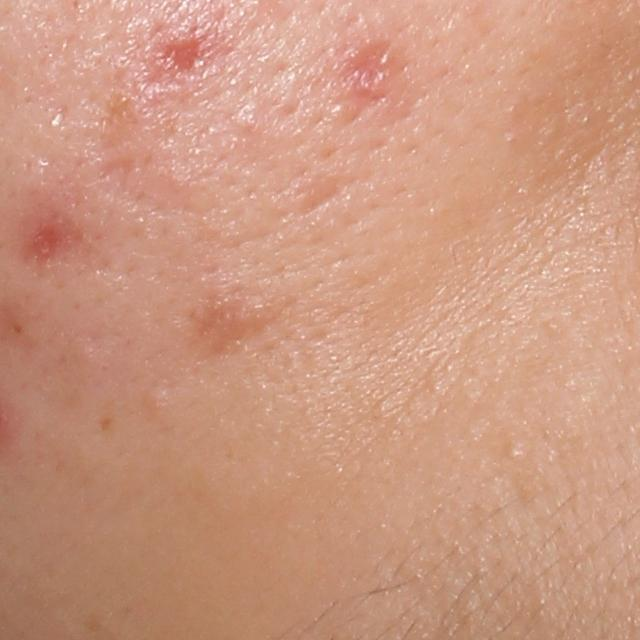atrophic_scar: (99, 87, 208, 216), (302, 175, 356, 216), (346, 39, 389, 87)
comedo: (140, 385, 176, 420), (502, 441, 525, 465)
